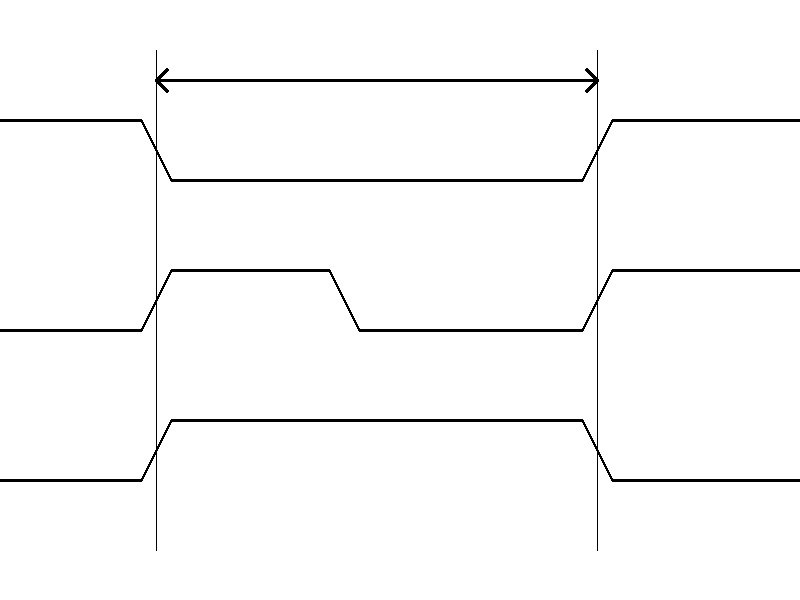double_arrow: (156, 65, 597, 95)
